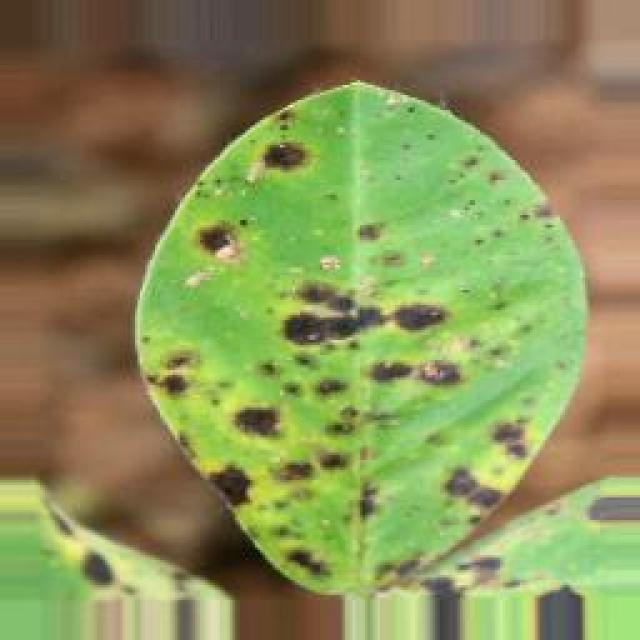Yellowish: (91, 57, 572, 598)
